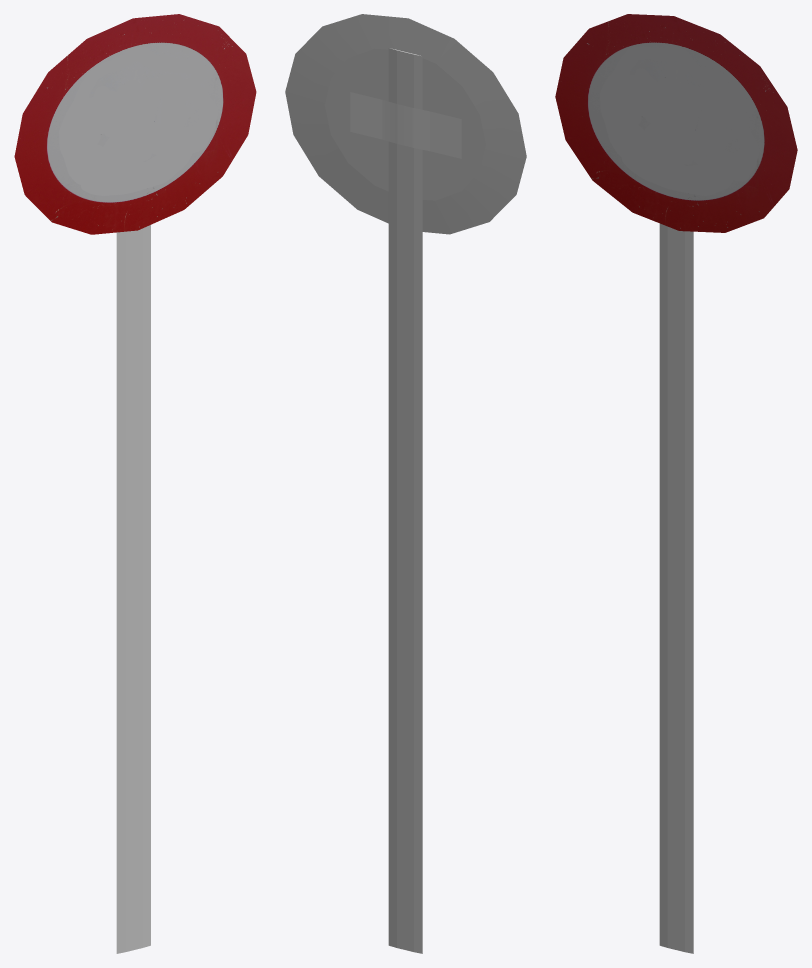
File: trafigekapali.dae
3 views of the same model, side by side, from view 1: azimuth 30°, elevation 25°; view 2: azimuth 150°, elevation 25°; view 3: azimuth 330°, elevation 25° (orthographic).
Visible parts, largest first — view 1: Sign_Circle.005; view 2: Sign_Circle.005; view 3: Sign_Circle.005.
Boxes of the visible parts, x1,y1,x2,y2 form: Sign_Circle.005: (14, 14, 256, 953); Sign_Circle.005: (285, 14, 526, 953); Sign_Circle.005: (555, 14, 797, 953).
Bounding box in the file's own units: 0.6353 × 0.00621 × 2.34.
Materials: 3 (1 with a texture image).
